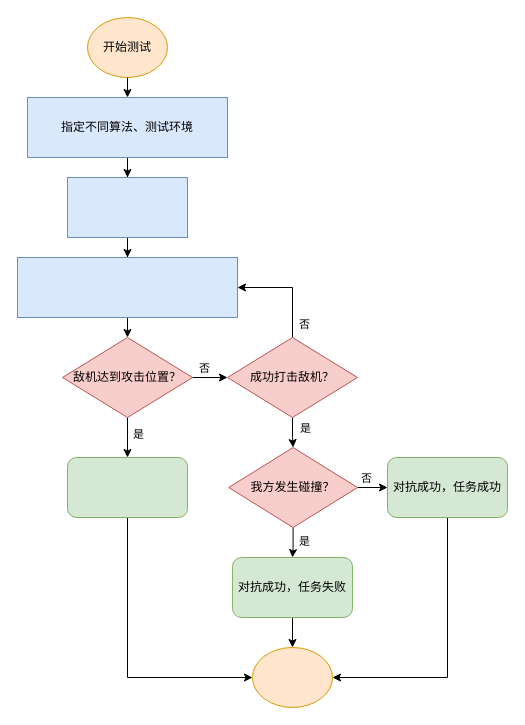
Some shapes in this 525 by 725 pixel diagram are drawn without their labels. Each missing label, with the box of its shape:
对抗失败，任务失败: (66, 456, 188, 518)
无人机根据观测执行控制指令 环境根据控制指令进行仿真: (16, 256, 238, 318)
测试环境初始化 加载对应模型: (66, 176, 188, 238)
结束: (252, 646, 332, 708)
